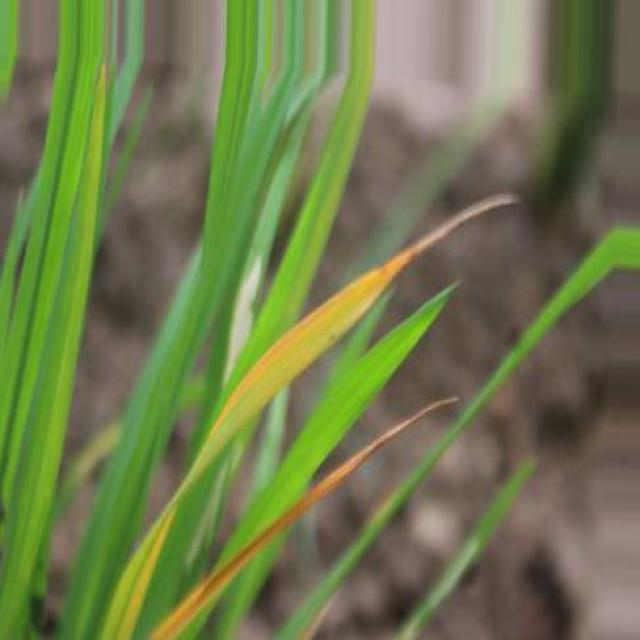Rice Tungro: (171, 193, 515, 502), (151, 399, 456, 640)
